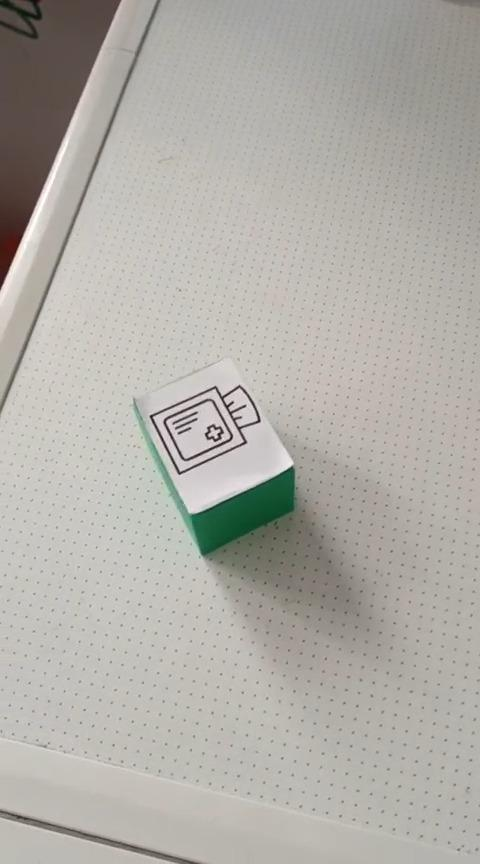Gauze: (131, 355, 296, 557)
